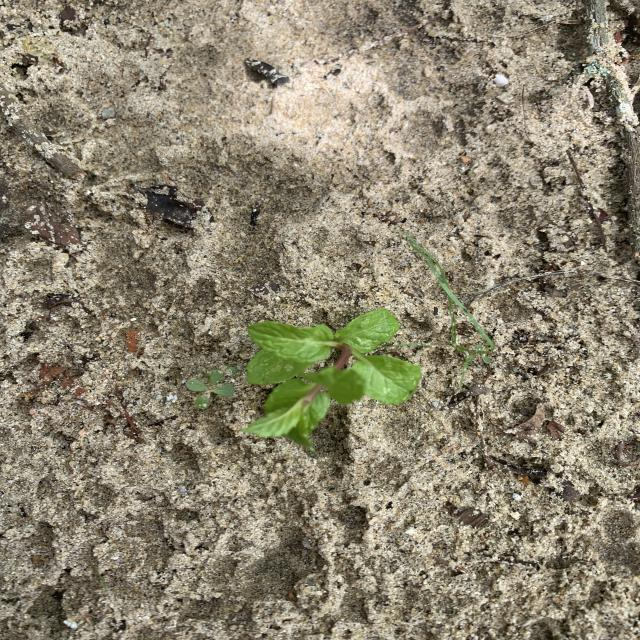crop: (242, 309, 422, 447)
weed: (400, 231, 495, 381), (186, 366, 238, 409)
